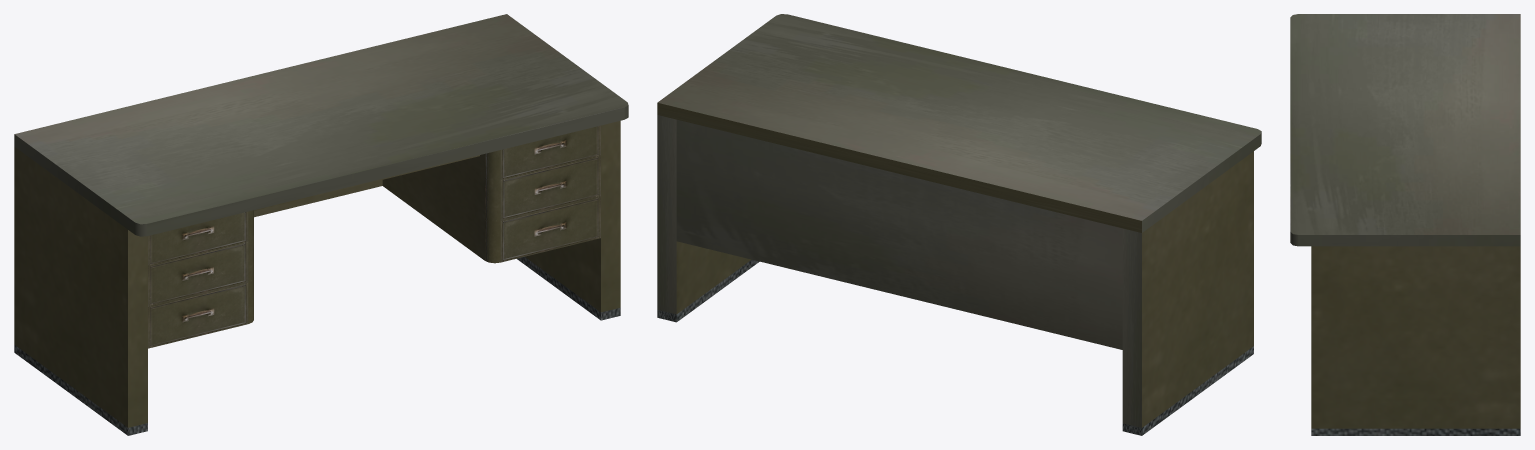
File: escritorioviejo5.glb
3 renders of one model, left to right at view 1: azimuth 30°, elevation 25°; view 2: azimuth 150°, elevation 25°; view 3: azimuth 270°, elevation 25°, orthographic. The views are drawn at different scales.
Visible parts, largest first — view 1: tabla, soportes, cajonera, tapadera; view 2: tabla, tapadera, soportes; view 3: tabla, soportes.
Part boxes in pixels (x1,y1,x2,y2): tabla: [14, 14, 628, 236]; soportes: [14, 121, 620, 435]; cajonera: [148, 125, 600, 348]; tapadera: [254, 180, 382, 217]; tabla: [657, 14, 1261, 232]; tapadera: [676, 119, 1122, 349]; soportes: [657, 115, 1253, 435]; tabla: [1290, 14, 1520, 246]; soportes: [1311, 246, 1520, 435].
Bounding box in the file's own units: 2.87 × 1.22 × 1.26.
Materials: 1 (1 with a texture image).
